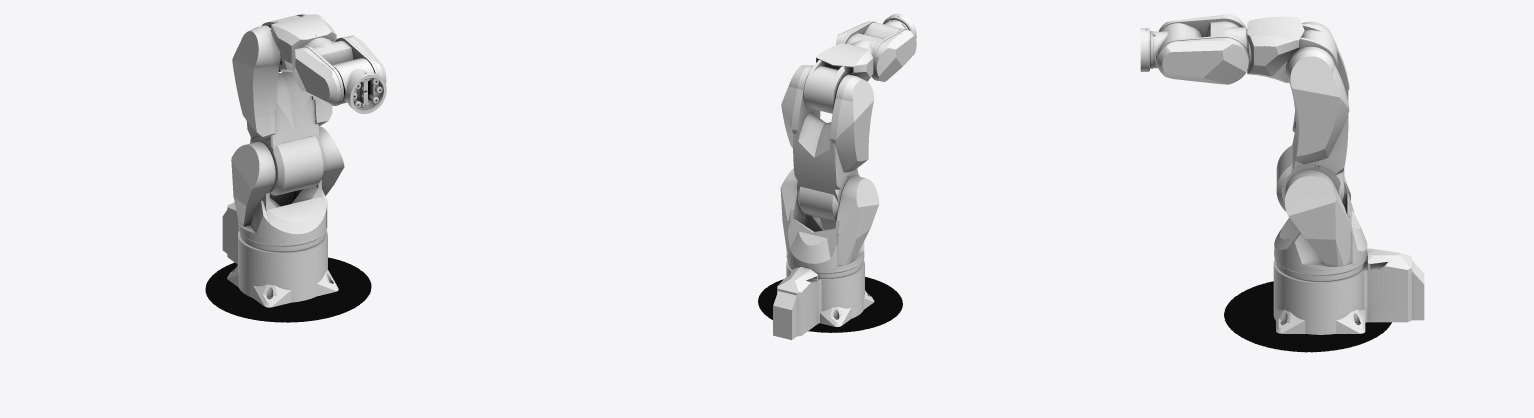
File: ProbotArm.fbx
3 views of the same model, side by side, from view 1: azimuth 30°, elevation 25°; view 2: azimuth 150°, elevation 25°; view 3: azimuth 270°, elevation 25° (orthographic). The views are drawn at different scales.
Parts seen in each view (by area): view 1: J2, J1, Base, pPlane1, J4, J3, J5, J6; view 2: J2, J1, Base, J3, pPlane1, J4, J5; view 3: Base, J1, J2, J4, pPlane1, J3, J5, J6.
Part boxes in pixels (left/top/right/bottom): J2: left=232, top=14, right=336, bottom=195; J1: left=231, top=126, right=344, bottom=251; Base: left=222, top=202, right=338, bottom=307; pPlane1: left=205, top=257, right=371, bottom=322; J4: left=293, top=35, right=386, bottom=105; J3: left=261, top=14, right=336, bottom=72; J5: left=332, top=58, right=379, bottom=107; J6: left=346, top=72, right=386, bottom=113; J2: left=781, top=65, right=873, bottom=221; J1: left=780, top=168, right=879, bottom=278; Base: left=773, top=260, right=874, bottom=339; J3: left=803, top=43, right=873, bottom=113; pPlane1: left=758, top=277, right=902, bottom=332; J4: left=836, top=21, right=916, bottom=81; J5: left=863, top=19, right=908, bottom=39; Base: left=1273, top=248, right=1424, bottom=334; J1: left=1274, top=170, right=1367, bottom=281; J2: left=1276, top=21, right=1349, bottom=211; J4: left=1156, top=14, right=1249, bottom=84; pPlane1: left=1224, top=281, right=1391, bottom=352; J3: left=1246, top=16, right=1337, bottom=82; J5: left=1150, top=23, right=1202, bottom=68; J6: left=1140, top=28, right=1149, bottom=71.
Bounding box in the file's own units: 81.89 × 61.83 × 81.89.
